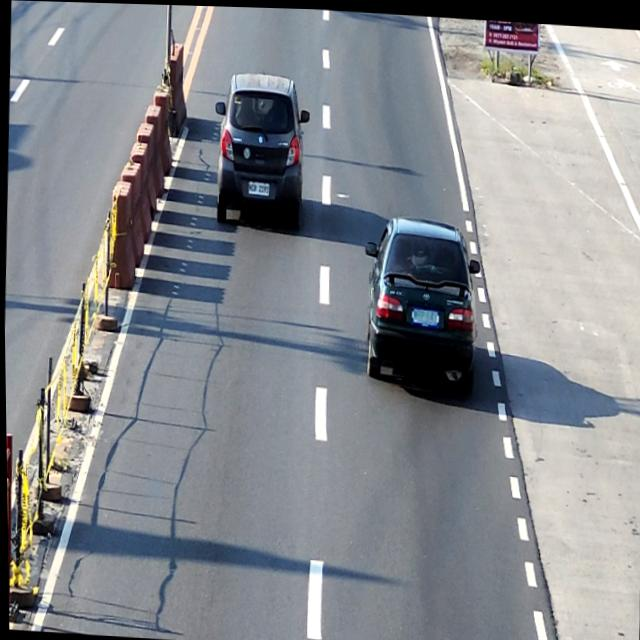Car: (359, 212, 482, 397), (210, 69, 312, 232)
License-Plate: (411, 305, 436, 323), (248, 179, 269, 194)
